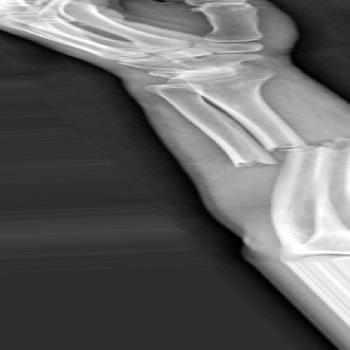Fracture: (211, 133, 350, 172)
